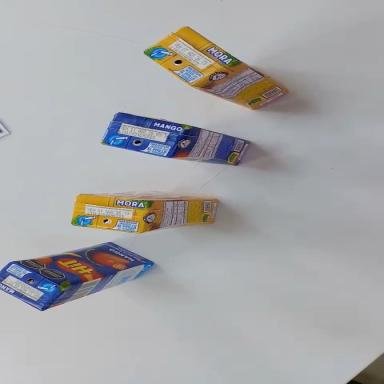HIT-MANGO: (0, 219, 156, 322), (101, 110, 251, 171)
HIT-MORA: (142, 14, 288, 131), (72, 193, 218, 237)
cara_F: (10, 223, 152, 300)
